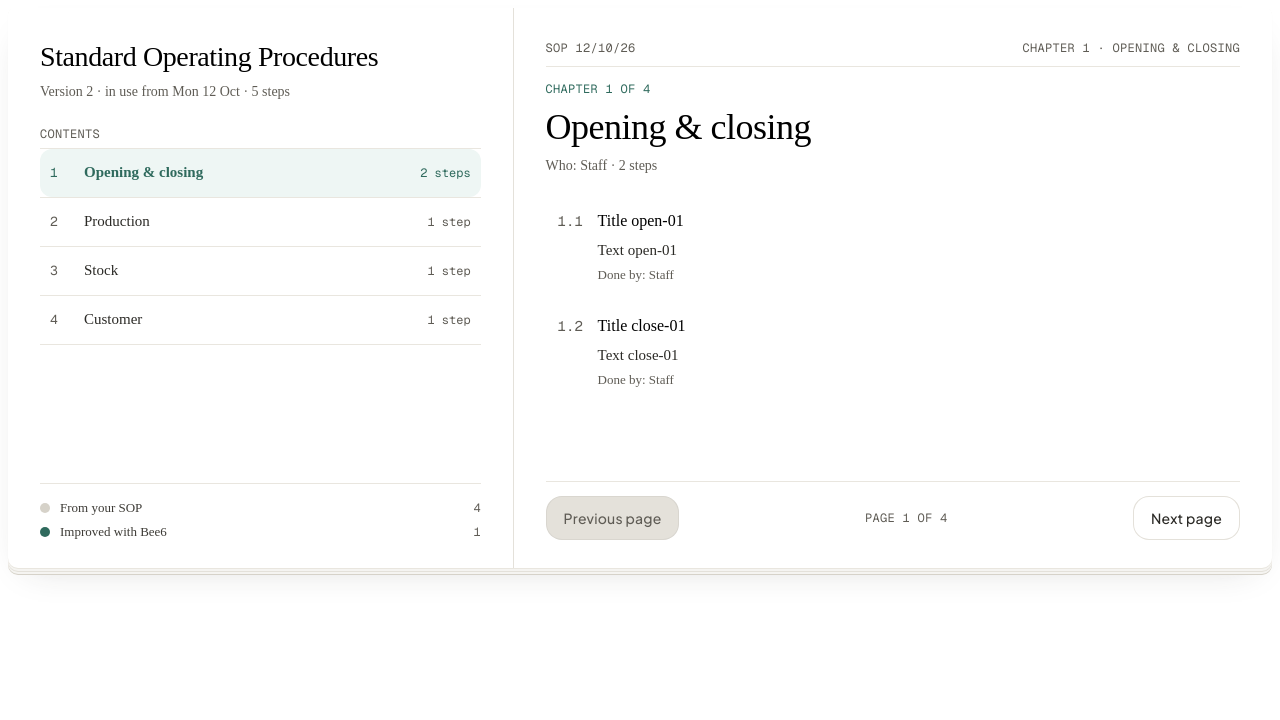
Test case: SopBookSpread (R-19 PR-9b §9.1) › Next and Previous page move through the chapters and are disabled at the ends
expect the button "Previous page" is disabled: met, box [546, 496, 680, 540]
Click the button "Next page" at (1186, 518), box [1133, 496, 1240, 540]
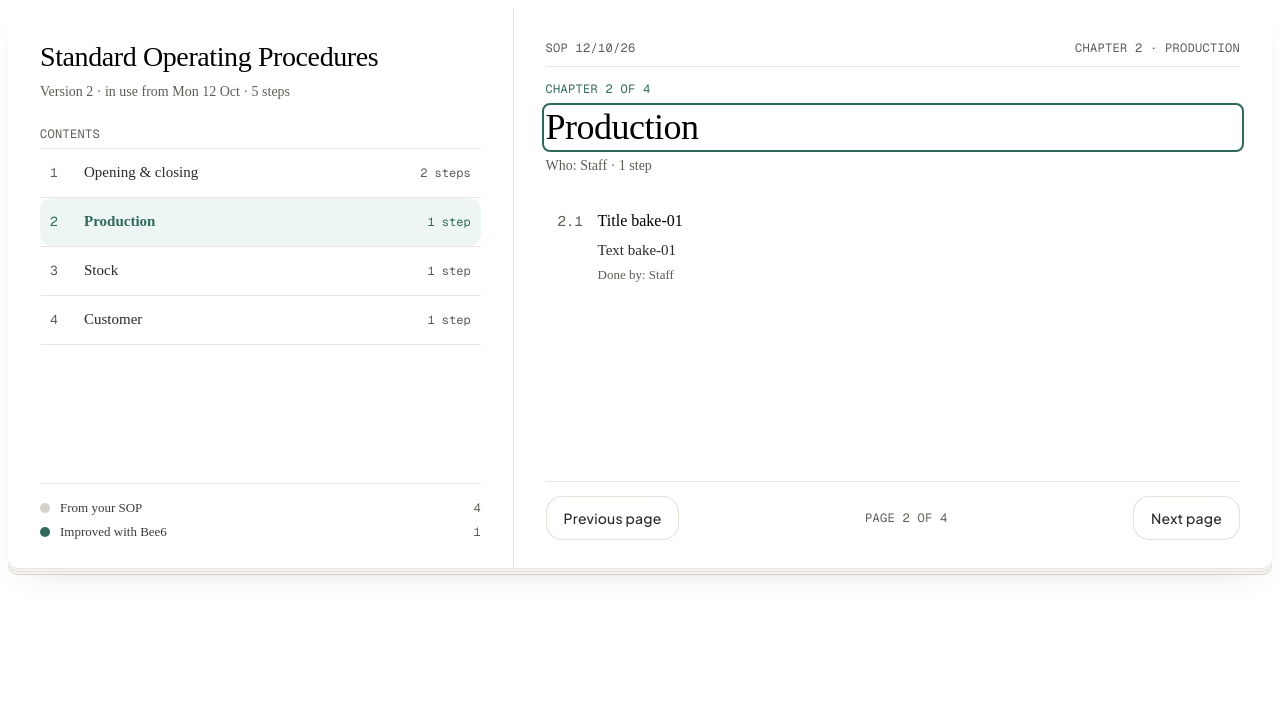
expect the heading "Production" is shown: met, box [546, 107, 699, 147]
expect the text "Page 2 of 4" is shown: met, box [865, 510, 948, 526]
expect the button "Previous page" is enabled: met, box [546, 496, 680, 540]
Click the button "Next page" at (1186, 518), box [1133, 496, 1240, 540]
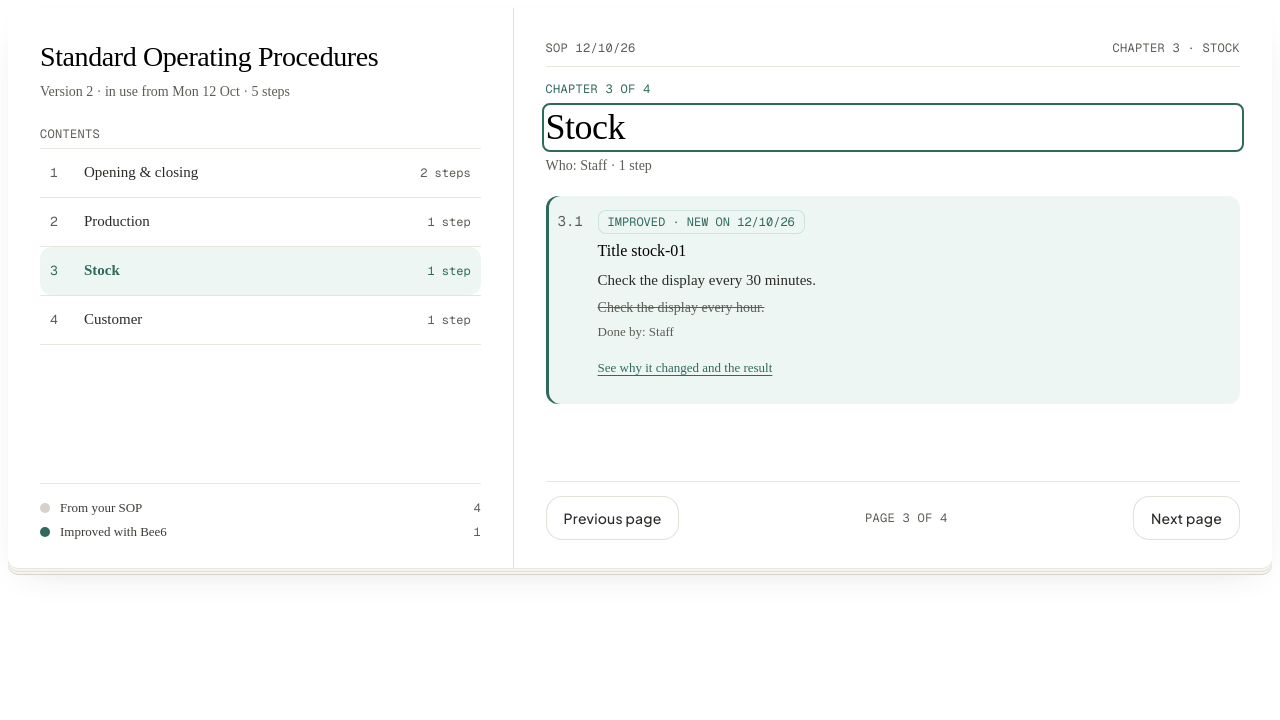
Click the button "Next page" at (1186, 518), box [1133, 496, 1240, 540]
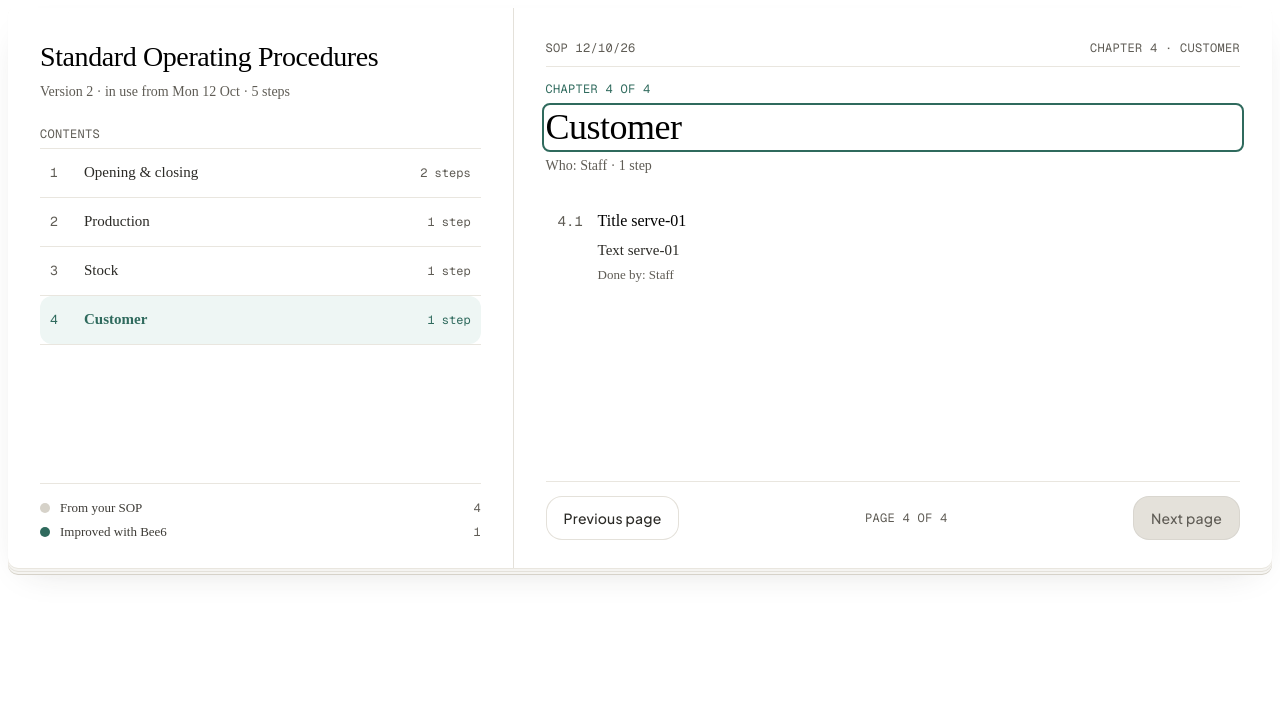
expect the heading "Customer" is shown: met, box [546, 107, 682, 147]
expect the button "Next page" is disabled: met, box [1133, 496, 1240, 540]
Click the button "Previous page" at (613, 518), box [546, 496, 680, 540]
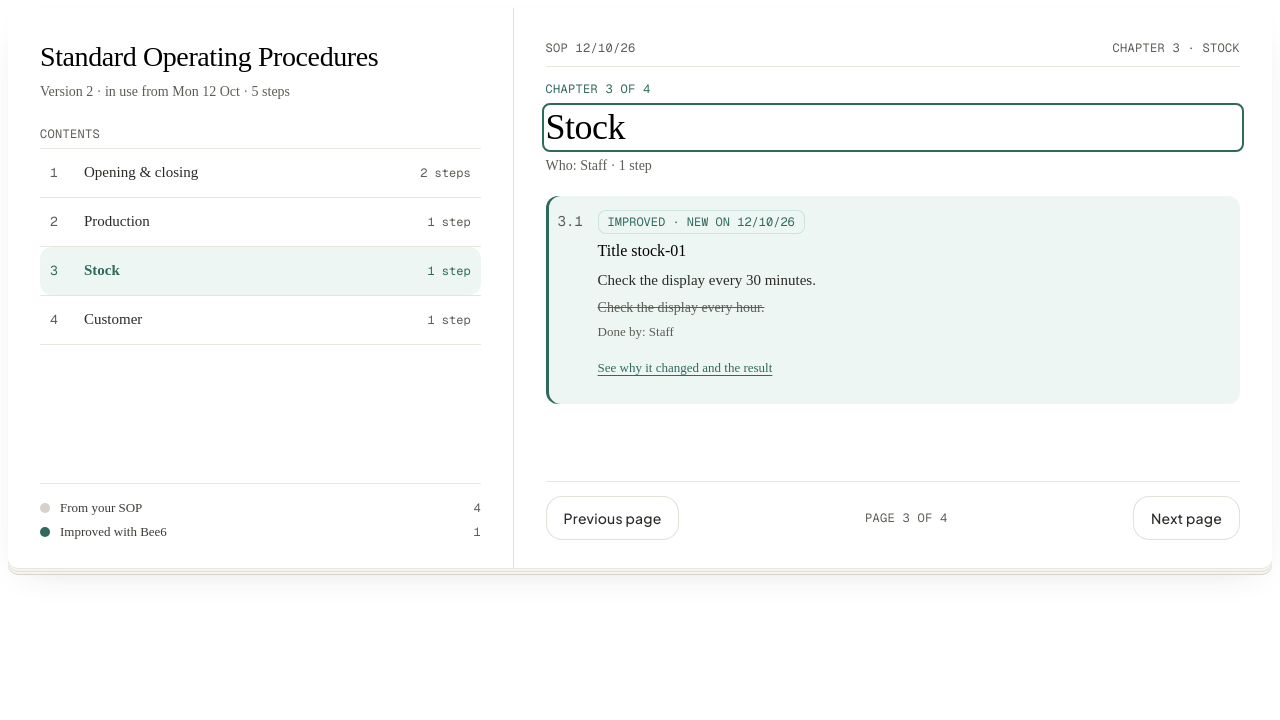
expect the heading "Stock" is shown: met, box [546, 107, 625, 147]
expect the text "IMPROVED · NEW ON 12/10/26" is shown: met, box [598, 210, 805, 234]
expect the text "Check the display every hour." is shown: met, box [598, 300, 764, 315]
